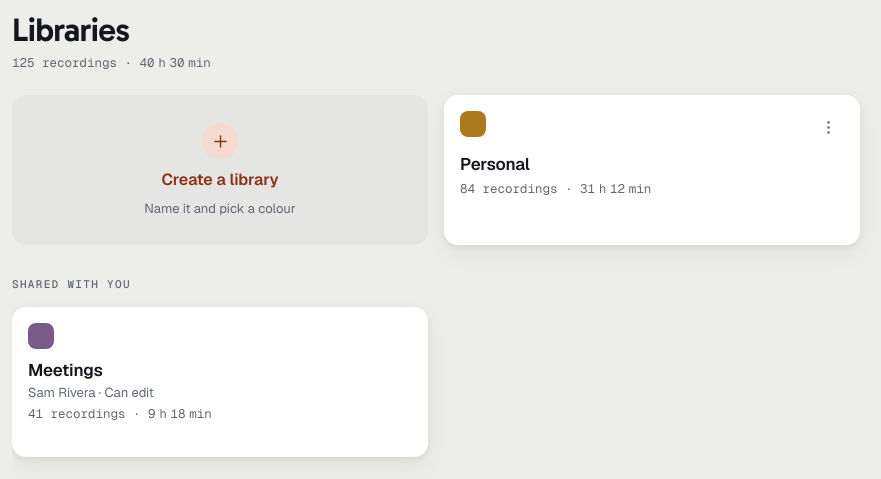
Test: a card › withholds it on the only library the account owns
This screenshot has width=881, height=479.
Click the button named "Options for Personal" at point(828, 127), box top-left (812, 111), bottom-right (844, 143)
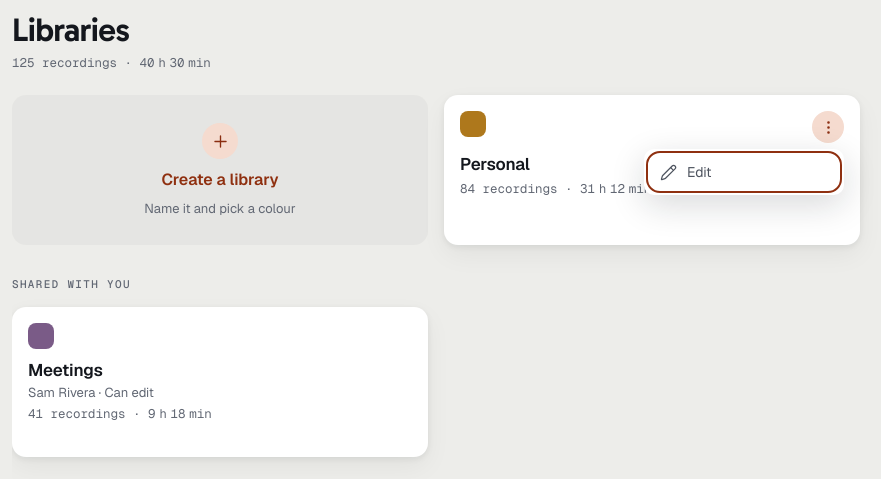
Result: the menu item "Edit" is shown at top-left (650, 155), bottom-right (838, 189)
